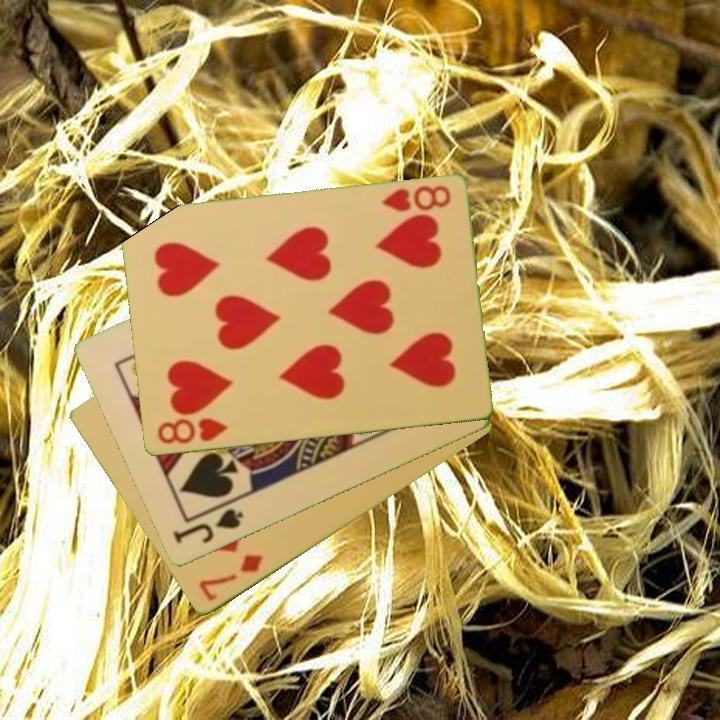7d: (194, 551, 266, 605)
8h: (377, 182, 454, 215), (154, 415, 230, 448)
Js: (169, 505, 247, 547)
